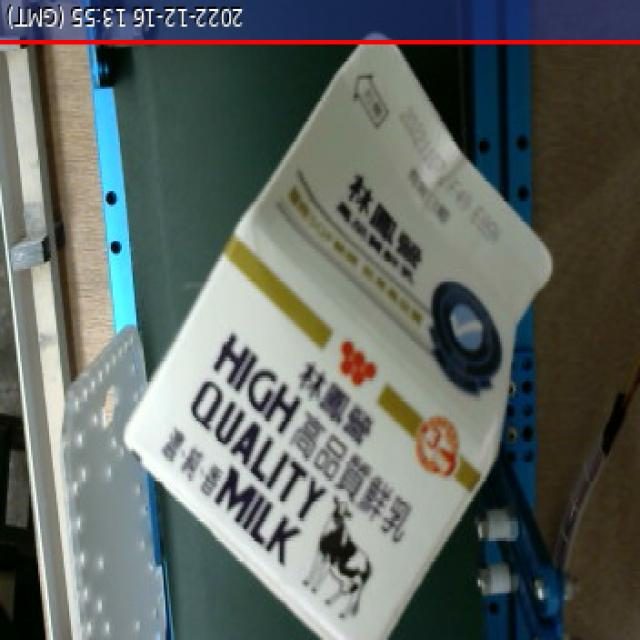non_white_jug: (92, 13, 603, 640)
